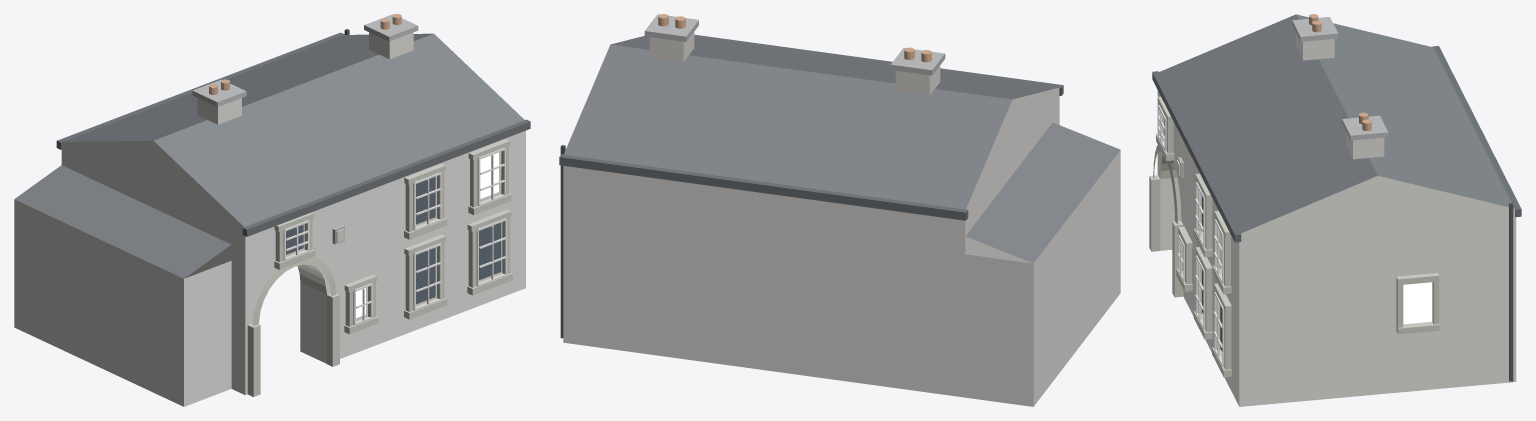
3 renders of one model, left to right at view 1: azimuth 30°, elevation 25°; view 2: azimuth 150°, elevation 25°; view 3: azimuth 270°, elevation 25°, orthographic. The views are drawn at different scales.
Visible parts, largest first — view 1: harl, slate, dress_sage, slate_dk, frame, dress_dark, chim_render, window_glass_002, window_glass_003, window_glass_006, window_glass_005; view 2: harl, slate, slate_dk, chim_render, dress_dark, pipe, pot; view 3: harl, slate, dress_sage, slate_dk, frame, dress_dark, chim_render, window_glass_001, pipe, pot.
Part boxes in pixels (box(x1,y1,x2,y2)): harl: box(14, 130, 525, 406); slate: box(14, 33, 524, 278); dress_sage: box(247, 139, 512, 396); slate_dk: box(56, 32, 530, 236); frame: box(283, 147, 507, 325); dress_dark: box(192, 14, 418, 244); chim_render: box(197, 32, 413, 124); window_glass_002: box(479, 222, 501, 280); window_glass_003: box(416, 247, 435, 304); window_glass_006: box(416, 176, 435, 224); window_glass_005: box(480, 152, 498, 198); harl: box(563, 87, 1120, 406); slate: box(564, 36, 1120, 263); slate_dk: box(559, 34, 1063, 220); chim_render: box(649, 32, 940, 95); dress_dark: box(644, 14, 945, 75); pipe: box(560, 145, 565, 338); pot: box(658, 14, 931, 62); harl: box(1157, 90, 1516, 406); slate: box(1159, 14, 1514, 233); dress_sage: box(1149, 96, 1439, 377); slate_dk: box(1152, 46, 1521, 242); frame: box(1157, 105, 1224, 367); dress_dark: box(1177, 17, 1388, 177); chim_render: box(1296, 33, 1384, 159); window_glass_001: box(1403, 282, 1432, 324); pipe: box(1509, 203, 1513, 381); pot: box(1309, 14, 1371, 130).
Size of the model in its own units: 11.08 by 6.04 by 8.1.
